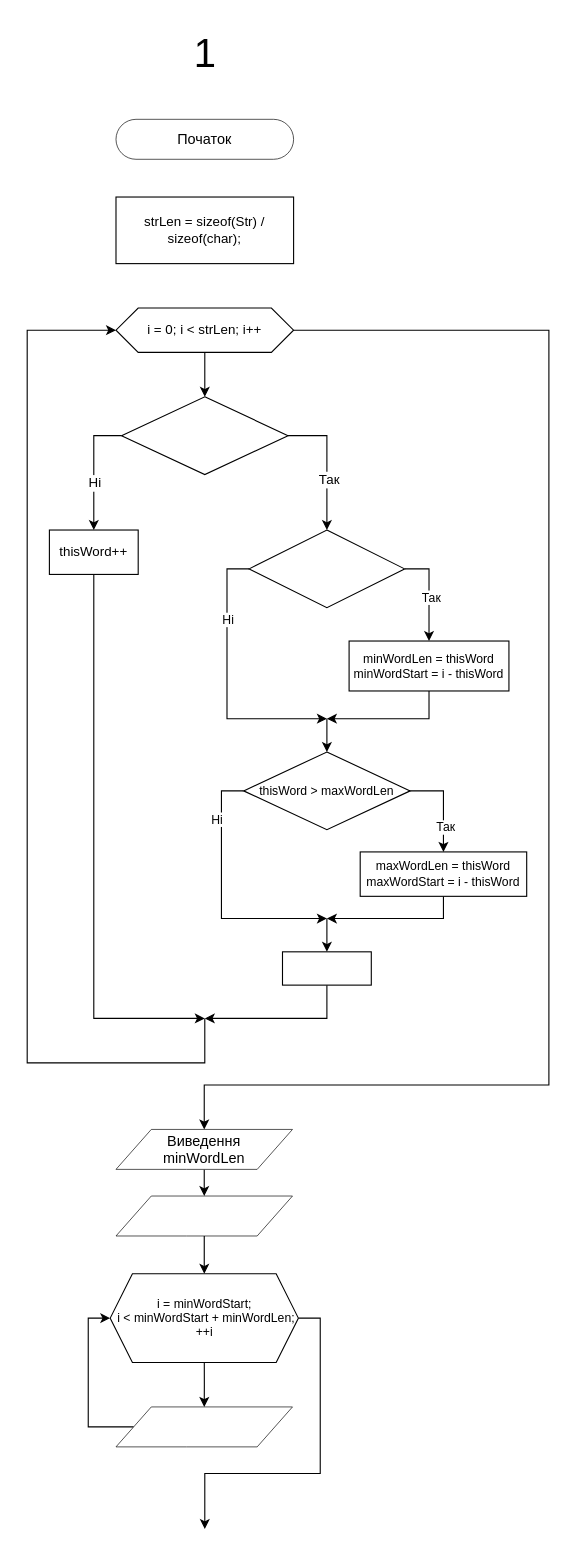
Image size: 577x1557. Some labels were removed from this diagram. Here are the shapes that lost their labels. From the top down, the centre of each, then its label:
point 204,435: Str[i] == 32 || strLen == i + 1
point 326,568: thisWord < minWordLen
point 326,968: thisWord = 0
point 203,1215: Виведення "min word = "
point 203,1426: Виведення Str[i]
